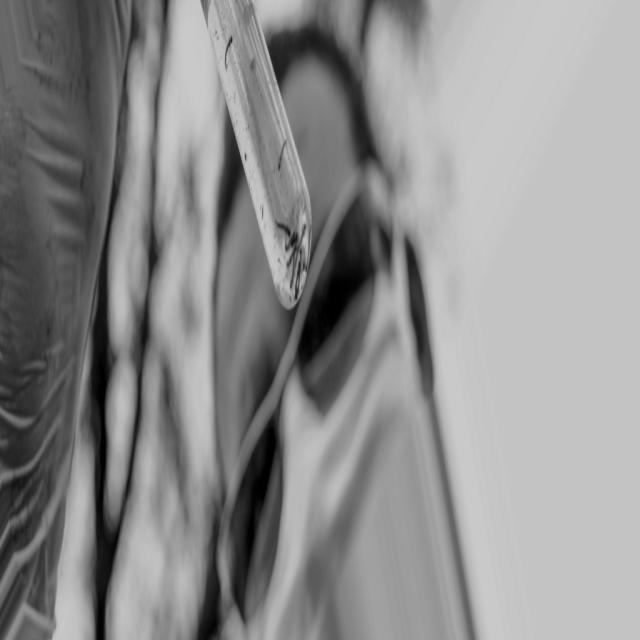larvas: (274, 217, 292, 238), (305, 227, 312, 271), (224, 35, 232, 70), (286, 246, 298, 268), (285, 231, 296, 253), (278, 140, 286, 169), (297, 251, 302, 293), (300, 225, 306, 248), (294, 274, 299, 300), (290, 257, 294, 287), (291, 235, 299, 248)
